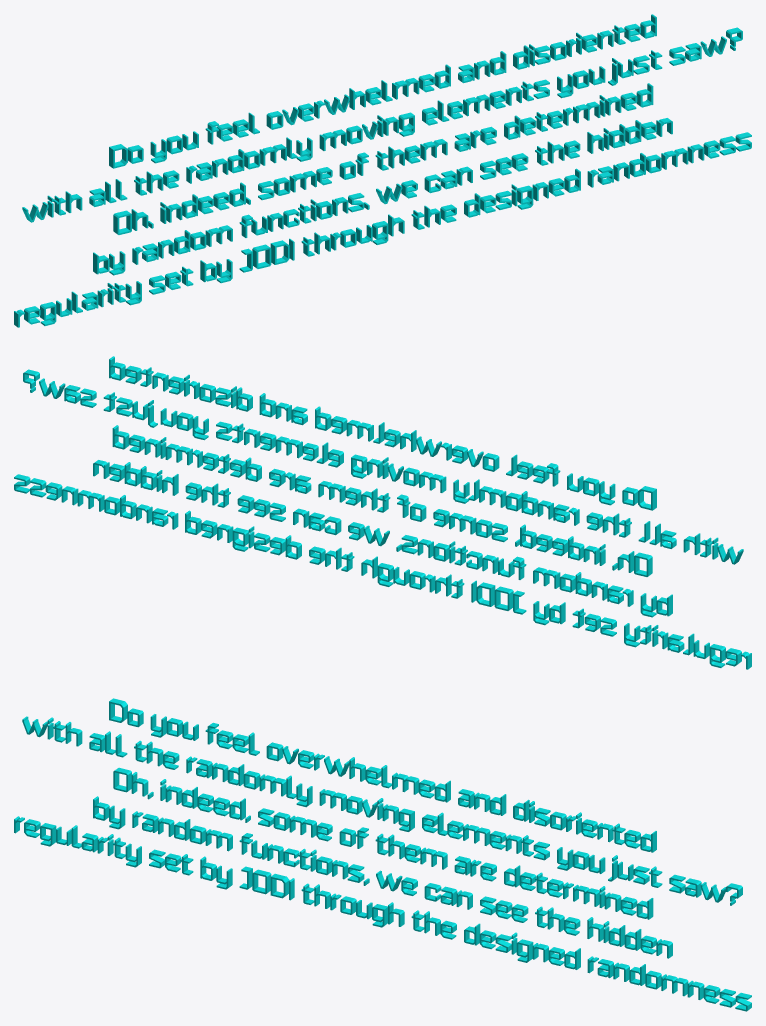
File: JI_HYP_1_TEXT_2.fbx
3 renders of one model, top to bottom at view 1: azimuth 30°, elevation 25°; view 2: azimuth 150°, elevation 25°; view 3: azimuth 330°, elevation 25°, orthographic.
Visible parts, largest first — view 1: JI_HYP_1_TEXT_2; view 2: JI_HYP_1_TEXT_2; view 3: JI_HYP_1_TEXT_2.
Boxes of the visible parts, x1,y1,x2,y2 form: JI_HYP_1_TEXT_2: (14, 14, 751, 327); JI_HYP_1_TEXT_2: (14, 356, 751, 669); JI_HYP_1_TEXT_2: (14, 698, 751, 1011).
Bounding box in the file's own units: 23.41 × 4.87 × 0.2324.
